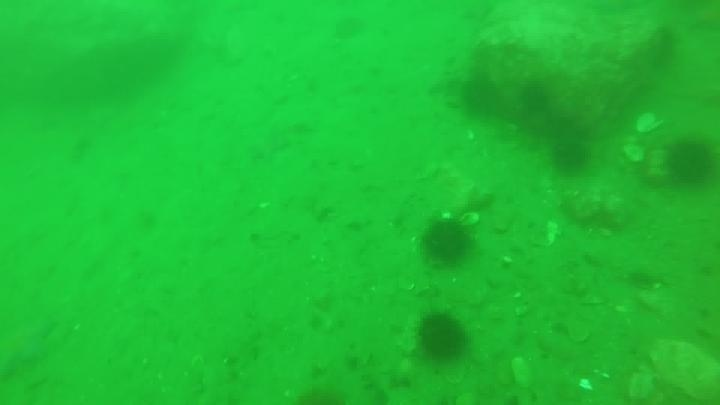echinus: (414, 310, 470, 364), (419, 216, 475, 268), (663, 137, 717, 188), (457, 74, 504, 121), (548, 137, 591, 177), (516, 79, 555, 118)
starfish: (1, 316, 60, 380)
